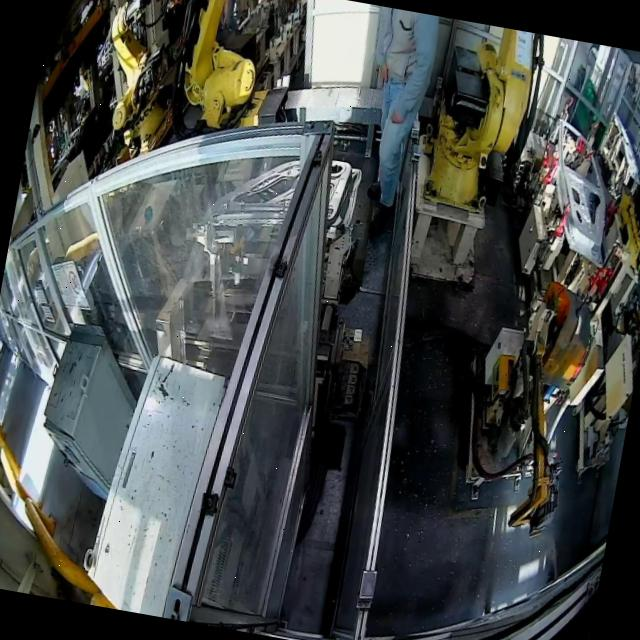Person: (341, 5, 444, 242)
